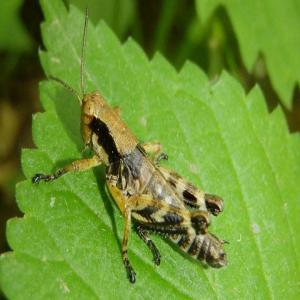locust: (46, 48, 229, 280)
